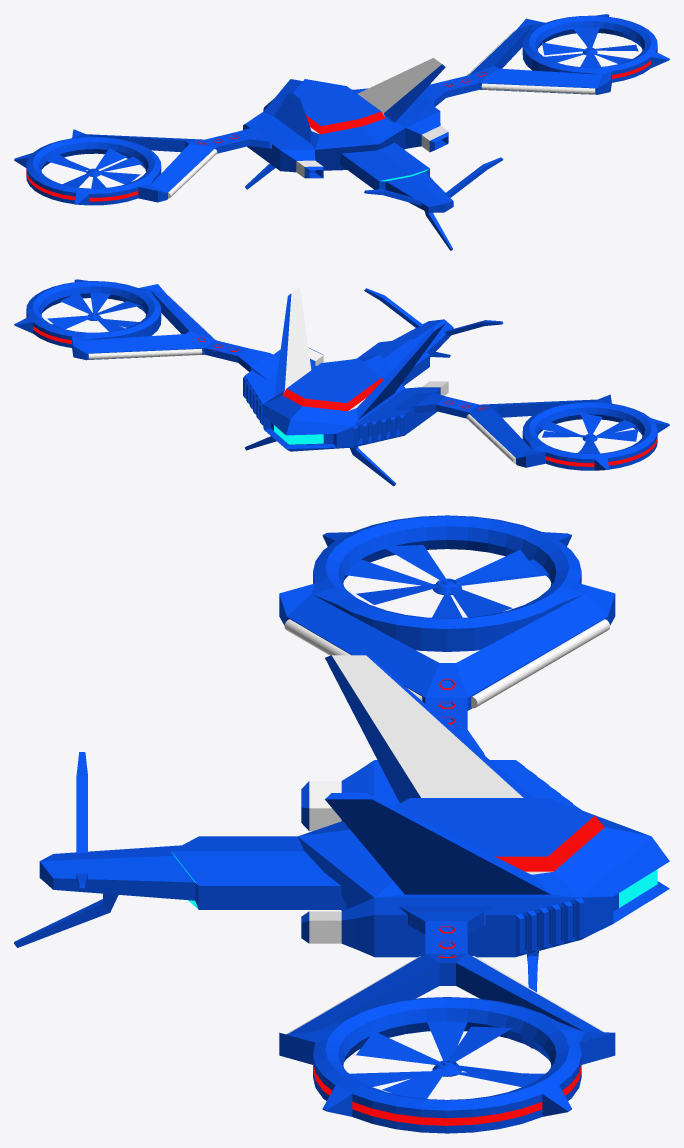
Rendered from drone.glb.
3 renders of one model, top to bottom at view 1: azimuth 30°, elevation 25°; view 2: azimuth 150°, elevation 25°; view 3: azimuth 270°, elevation 25°, orthographic. The views are drawn at different scales.
Visible parts, largest first — view 1: drone; view 2: drone; view 3: drone.
Boxes of the visible parts, box(x1,y1,x2,y2) form: drone: box(14, 14, 669, 250); drone: box(14, 279, 669, 486); drone: box(14, 515, 669, 1133).
Bounding box in the file's own units: 17.09 × 3.38 × 7.96.
